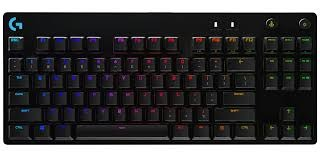keyboard: (2, 12, 319, 150), (317, 145, 320, 148)
